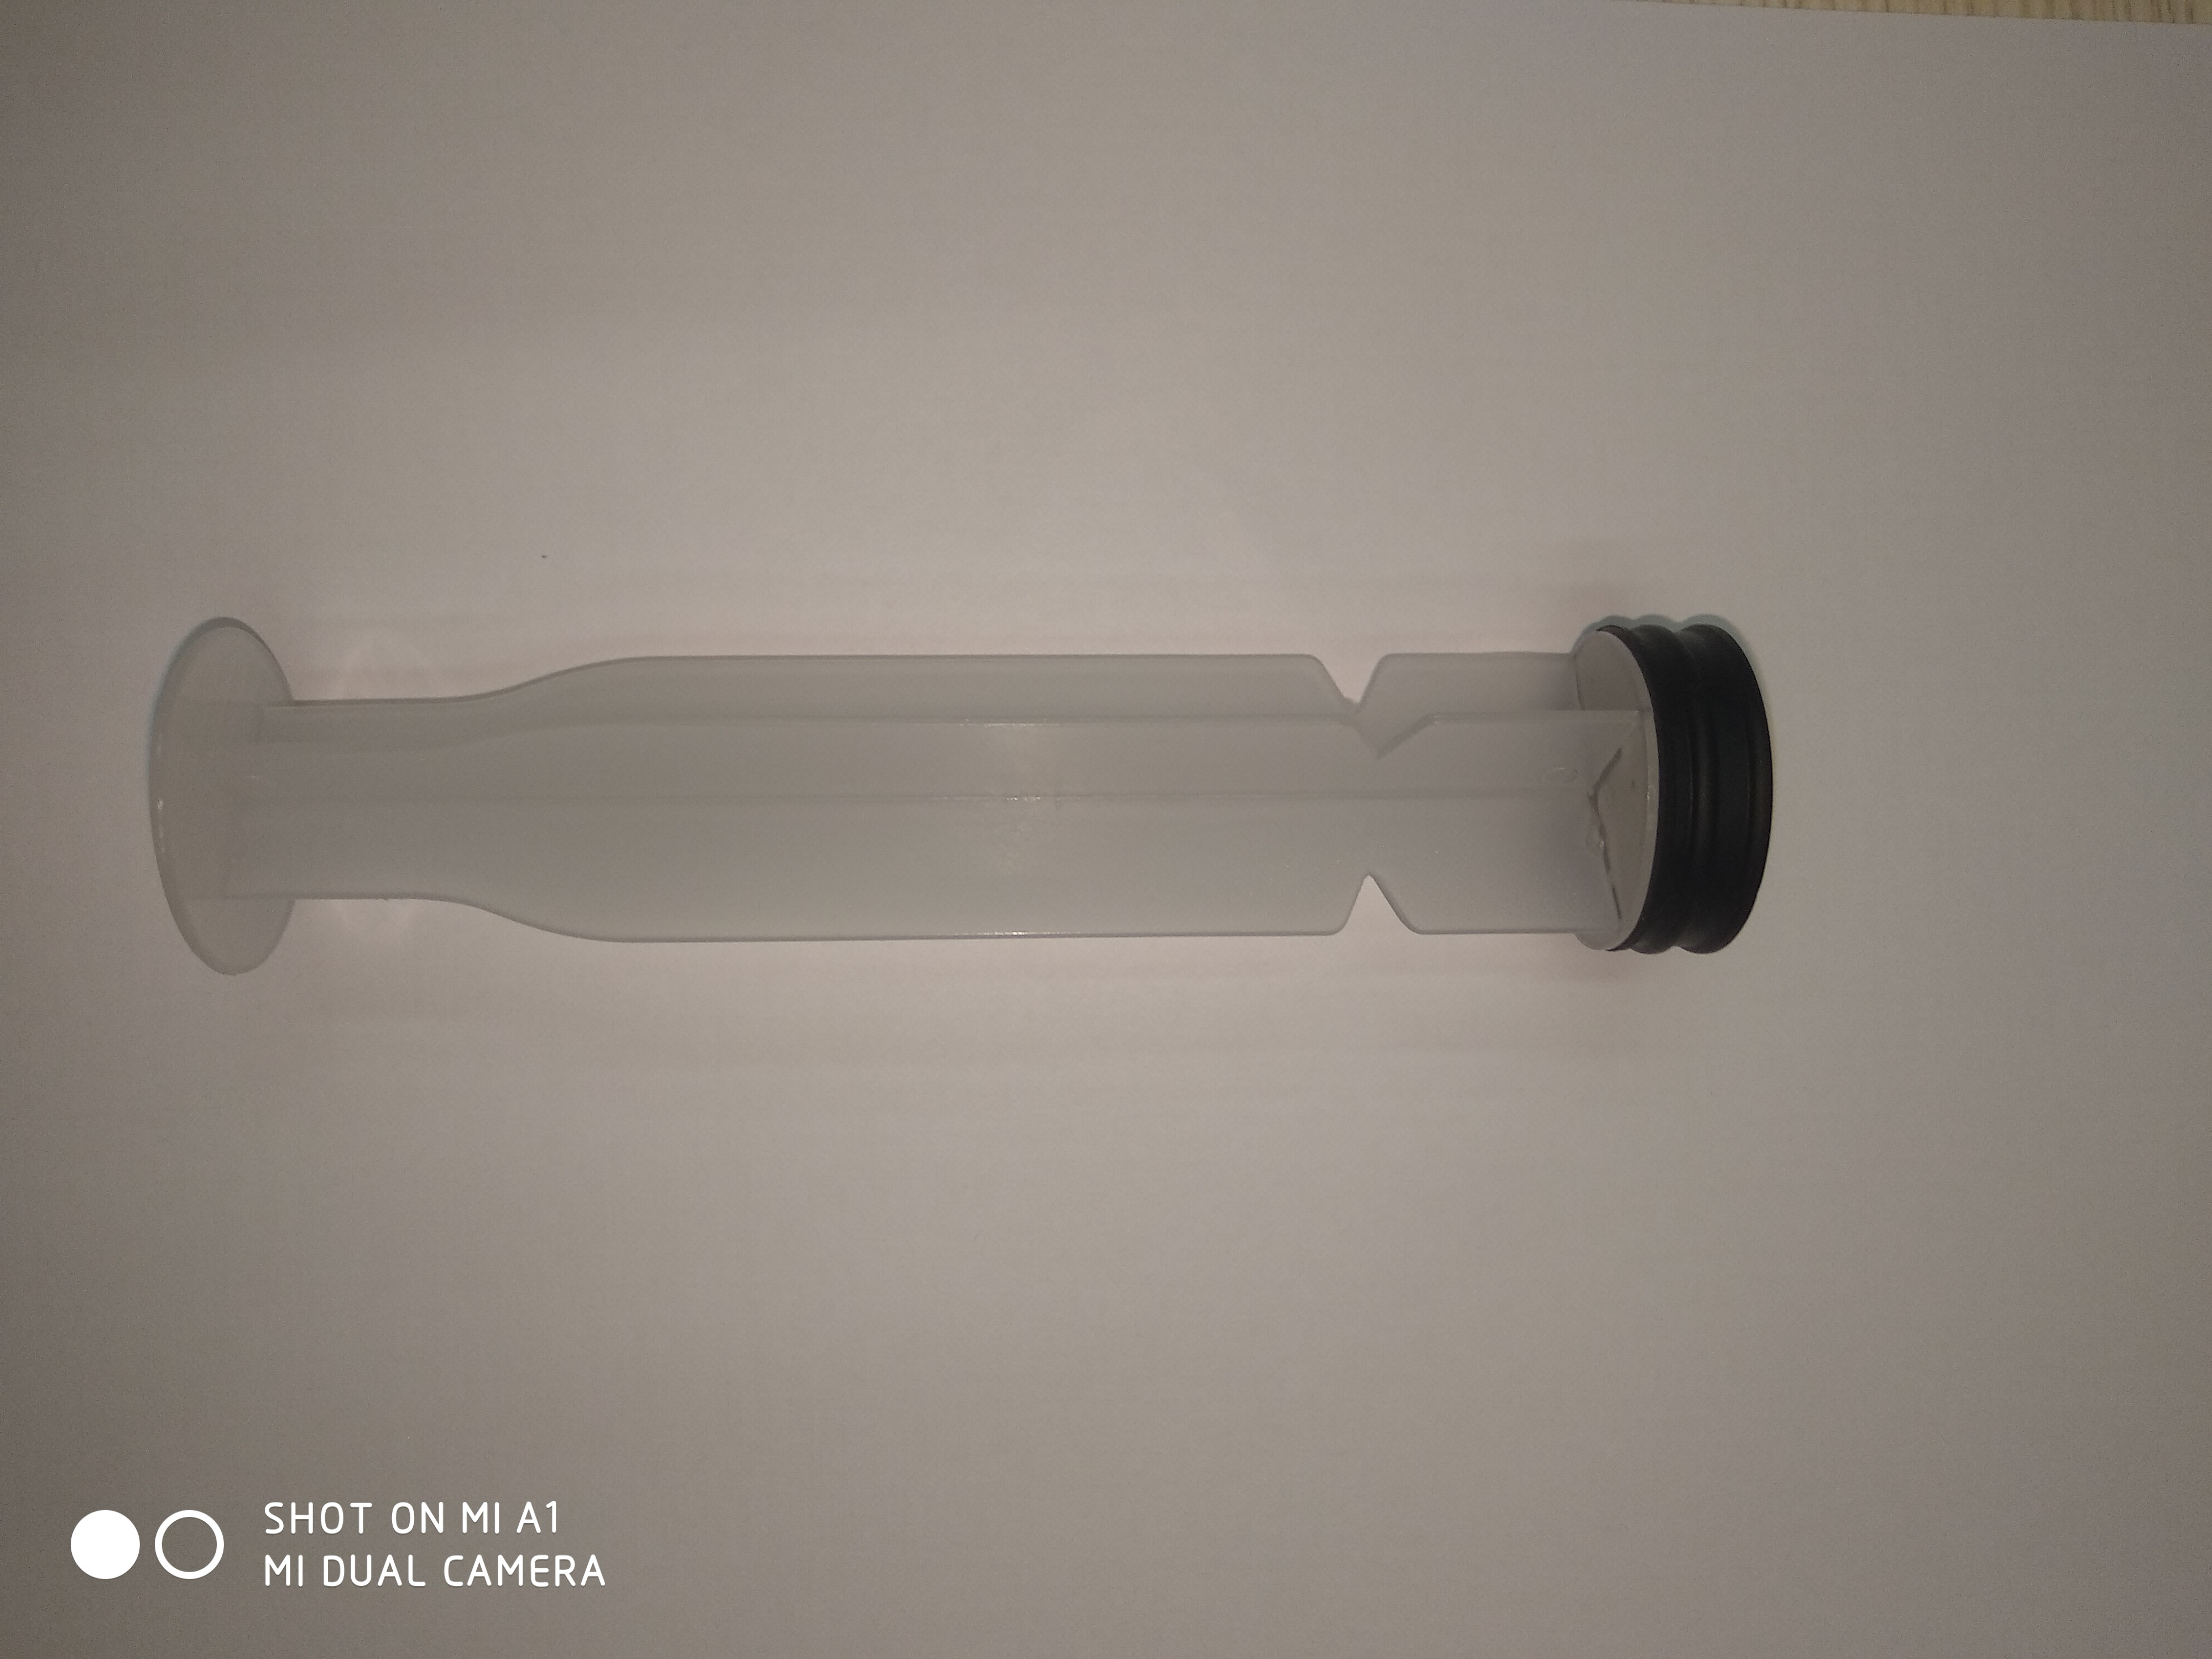plunger: (138, 601, 1782, 979)
